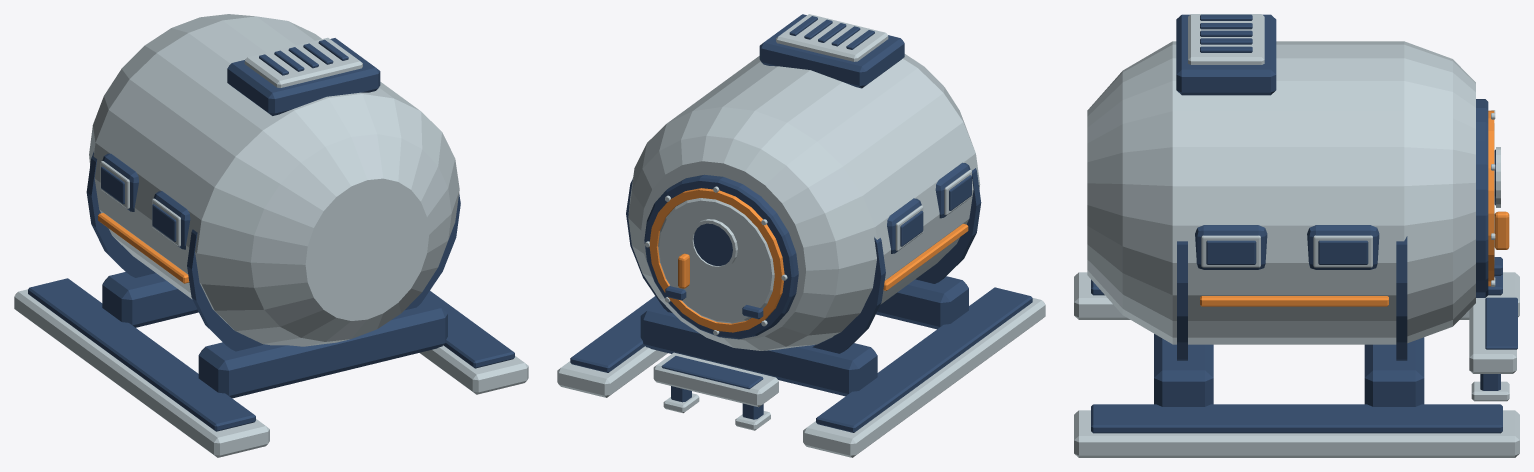
File: facility_habitat.glb
3 views of the same model, side by side, from view 1: azimuth 30°, elevation 25°; view 2: azimuth 150°, elevation 25°; view 3: azimuth 270°, elevation 25° (orthographic). The views are drawn at different scales.
Visible parts, largest first — view 1: facility_habitat; view 2: facility_habitat; view 3: facility_habitat.
Boxes of the visible parts, x1,y1,x2,y2 form: facility_habitat: (14,14,528,457); facility_habitat: (557,14,1045,457); facility_habitat: (1074,14,1519,457).
Bounding box in the file's own units: 3.26 × 3.12 × 3.66.
